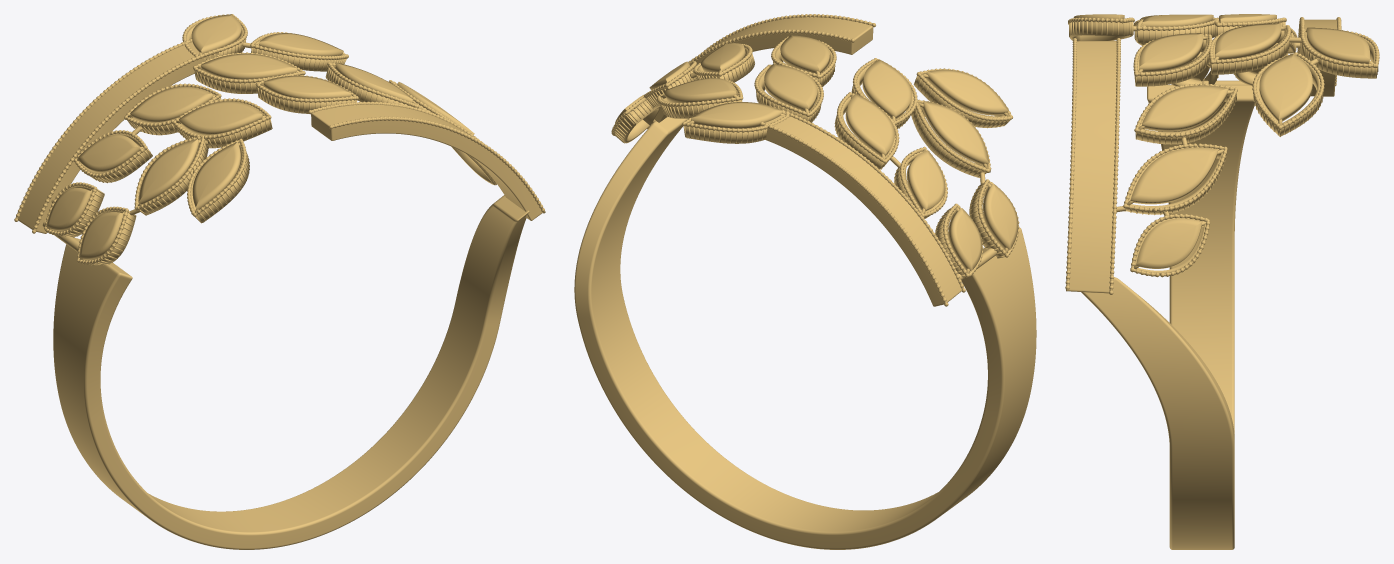
The picture shows the model from 3 angles, left to right: view 1: azimuth 30°, elevation 25°; view 2: azimuth 150°, elevation 25°; view 3: azimuth 270°, elevation 25°; orthographic projection. The views are drawn at different scales.
Visible parts, largest first — view 1: Complete tapered comfort shank | reverse inferred, Milgrain | individual rounded gold beads, Far offset frame segment, Near offset frame segment, Asymmetric spray leaf 9 raised convex polished platelet, Asymmetric spray leaf 8 raised convex polished platelet, Asymmetric spray leaf 3 raised convex polished platelet, Asymmetric spray leaf 4 raised convex polished platelet, Asymmetric spray leaf 14 raised convex polished platelet, Asymmetric spray leaf 10 raised convex polished platelet, Asymmetric spray leaf 2 raised convex polished platelet, Asymmetric spray leaf 6 raised convex polished platelet (+8 smaller); view 2: Complete tapered comfort shank | reverse inferred, Milgrain | individual rounded gold beads, Far offset frame segment, Near offset frame segment, Asymmetric spray leaf 14 raised convex polished platelet, Asymmetric spray leaf 8 raised convex polished platelet, Asymmetric spray leaf 9 raised convex polished platelet, Asymmetric spray leaf 3 raised convex polished platelet, Asymmetric spray leaf 4 raised convex polished platelet, Asymmetric spray leaf 6 raised convex polished platelet, Asymmetric spray leaf 2 raised convex polished platelet, Asymmetric spray leaf 7 raised convex polished platelet (+10 smaller); view 3: Complete tapered comfort shank | reverse inferred, Near offset frame segment, Milgrain | individual rounded gold beads, Asymmetric spray leaf 12 raised convex polished platelet, Asymmetric spray leaf 11 raised convex polished platelet, Asymmetric spray leaf 5 raised convex polished platelet, Asymmetric spray leaf 13 raised convex polished platelet, Asymmetric spray leaf 10 raised convex polished platelet, Asymmetric spray leaf 4 raised convex polished platelet, Asymmetric spray leaf 6 raised convex polished platelet, Asymmetric spray leaf 14 open marquise gallery, Asymmetric spray leaf 11 open marquise gallery (+14 smaller).
Part boxes in pixels (x1,y1,x2,y2): Complete tapered comfort shank | reverse inferred: (53,195,529,549); Milgrain | individual rounded gold beads: (14,14,544,264); Far offset frame segment: (18,42,220,233); Near offset frame segment: (311,104,542,220); Asymmetric spray leaf 9 raised convex polished platelet: (179,101,262,134); Asymmetric spray leaf 8 raised convex polished platelet: (138,139,199,203); Asymmetric spray leaf 3 raised convex polished platelet: (130,86,212,122); Asymmetric spray leaf 4 raised convex polished platelet: (201,53,296,79); Asymmetric spray leaf 14 raised convex polished platelet: (192,142,240,209); Asymmetric spray leaf 10 raised convex polished platelet: (263,75,351,98); Asymmetric spray leaf 2 raised convex polished platelet: (77,135,139,171); Asymmetric spray leaf 6 raised convex polished platelet: (191,14,241,53); Complete tapered comfort shank | reverse inferred: (574,117,1036,549); Milgrain | individual rounded gold beads: (611,14,1019,306); Far offset frame segment: (764,116,961,306); Near offset frame segment: (647,17,873,128); Asymmetric spray leaf 14 raised convex polished platelet: (926,69,1008,115); Asymmetric spray leaf 8 raised convex polished platelet: (921,101,989,165); Asymmetric spray leaf 9 raised convex polished platelet: (862,59,912,118); Asymmetric spray leaf 3 raised convex polished platelet: (845,94,894,156); Asymmetric spray leaf 4 raised convex polished platelet: (764,64,817,110); Asymmetric spray leaf 6 raised convex polished platelet: (691,102,782,128); Asymmetric spray leaf 2 raised convex polished platelet: (906,150,945,210); Asymmetric spray leaf 7 raised convex polished platelet: (983,183,1018,249); Complete tapered comfort shank | reverse inferred: (1081,85,1254,549); Near offset frame segment: (1069,41,1116,293); Milgrain | individual rounded gold beads: (1065,17,1379,294); Asymmetric spray leaf 12 raised convex polished platelet: (1130,147,1218,204); Asymmetric spray leaf 11 raised convex polished platelet: (1142,85,1228,131); Asymmetric spray leaf 5 raised convex polished platelet: (1259,53,1312,121); Asymmetric spray leaf 13 raised convex polished platelet: (1136,219,1201,268); Asymmetric spray leaf 10 raised convex polished platelet: (1139,33,1203,71); Asymmetric spray leaf 4 raised convex polished platelet: (1215,23,1281,59); Asymmetric spray leaf 6 raised convex polished platelet: (1307,27,1369,63); Asymmetric spray leaf 14 open marquise gallery: (1070,21,1132,41); Asymmetric spray leaf 11 open marquise gallery: (1137,89,1235,144).
Bounding box in the file's own units: 0.0195 × 0.0202 × 0.0118.
